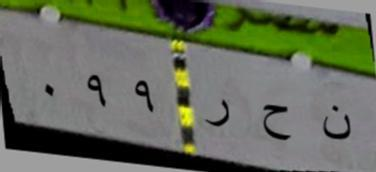0: (42, 74, 60, 106)
7aa: (254, 93, 294, 148)
9: (84, 67, 110, 115), (134, 76, 156, 118)
noon: (310, 93, 355, 145)
raa: (200, 91, 233, 134)
